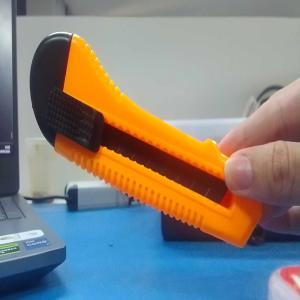estilete: (30, 32, 262, 248)
